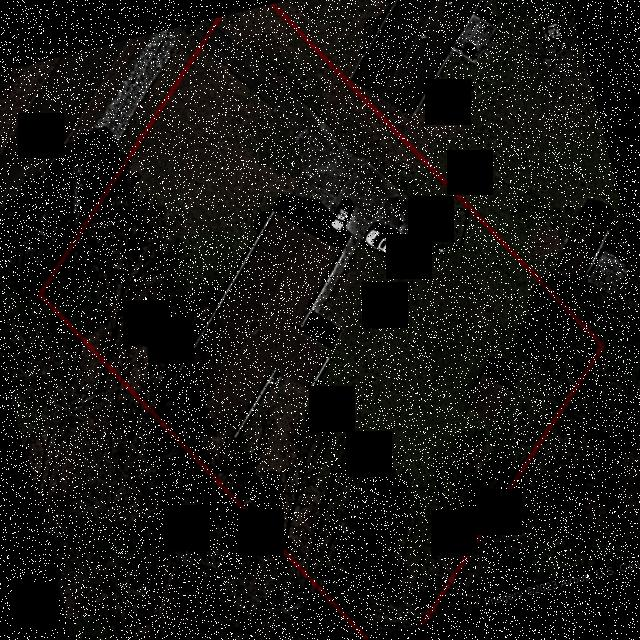Driveway: (205, 28, 422, 308)
Extra Lawn: (118, 33, 199, 151)
House: (162, 209, 342, 439)
Other: (465, 373, 510, 417)
